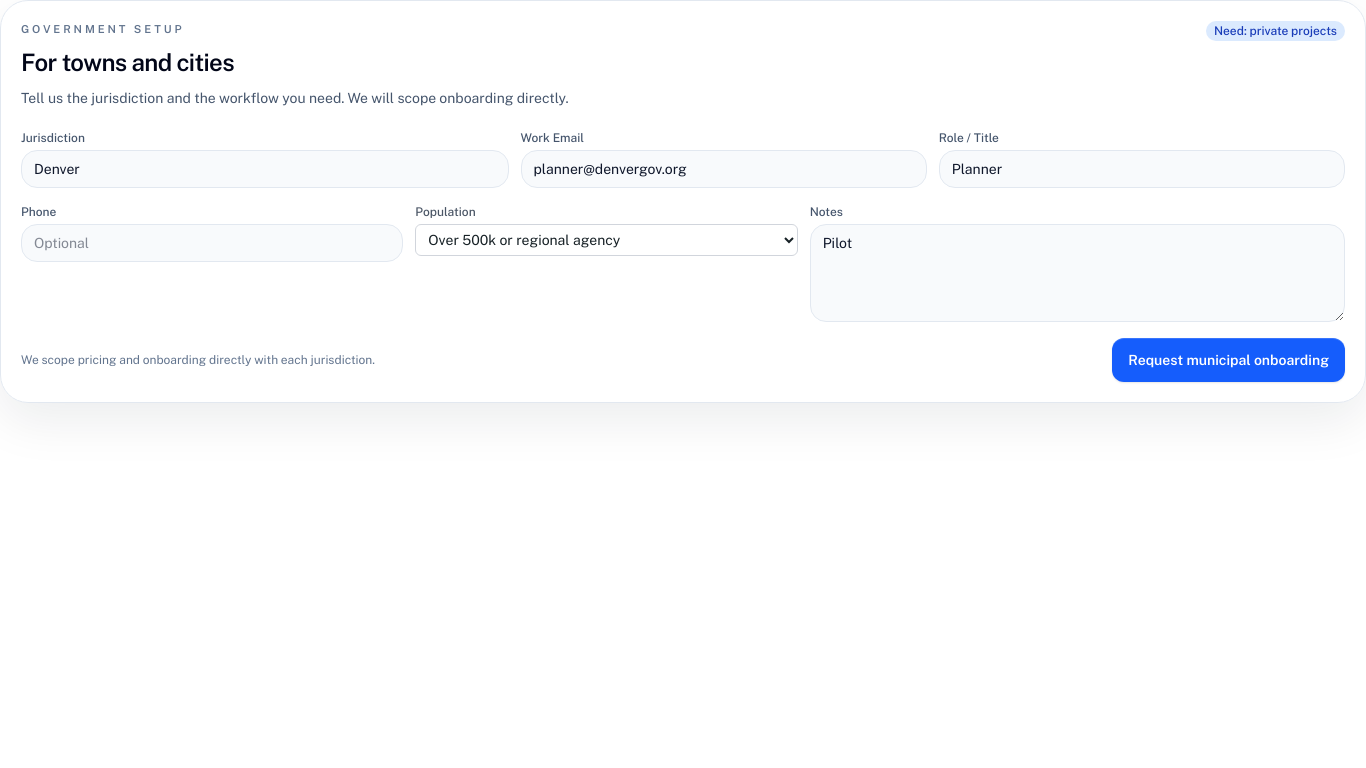
Test: government onboarding request › keeps editable prefilled fields and submits scoped contact information with the requested feature
Check: the field labelled "Work Email" holds "planner@denvergov.org", box [520, 150, 927, 188]
Replace the text in the field labelled "Jurisdiction" with "City and County of Denver" at (265, 168), box [21, 150, 508, 188]
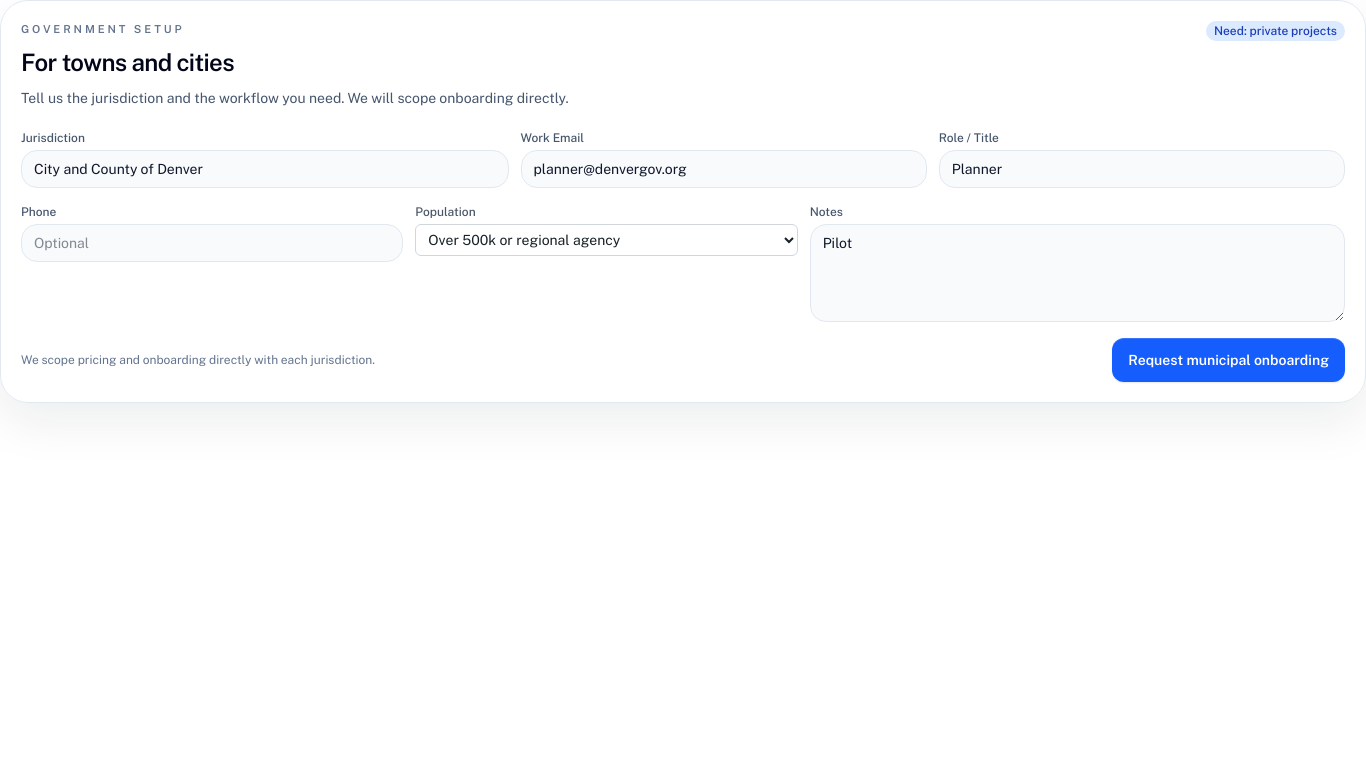
Replace the text in the field labelled "Role / Title" with "Transportation planner" at (1142, 168), box [939, 150, 1345, 188]
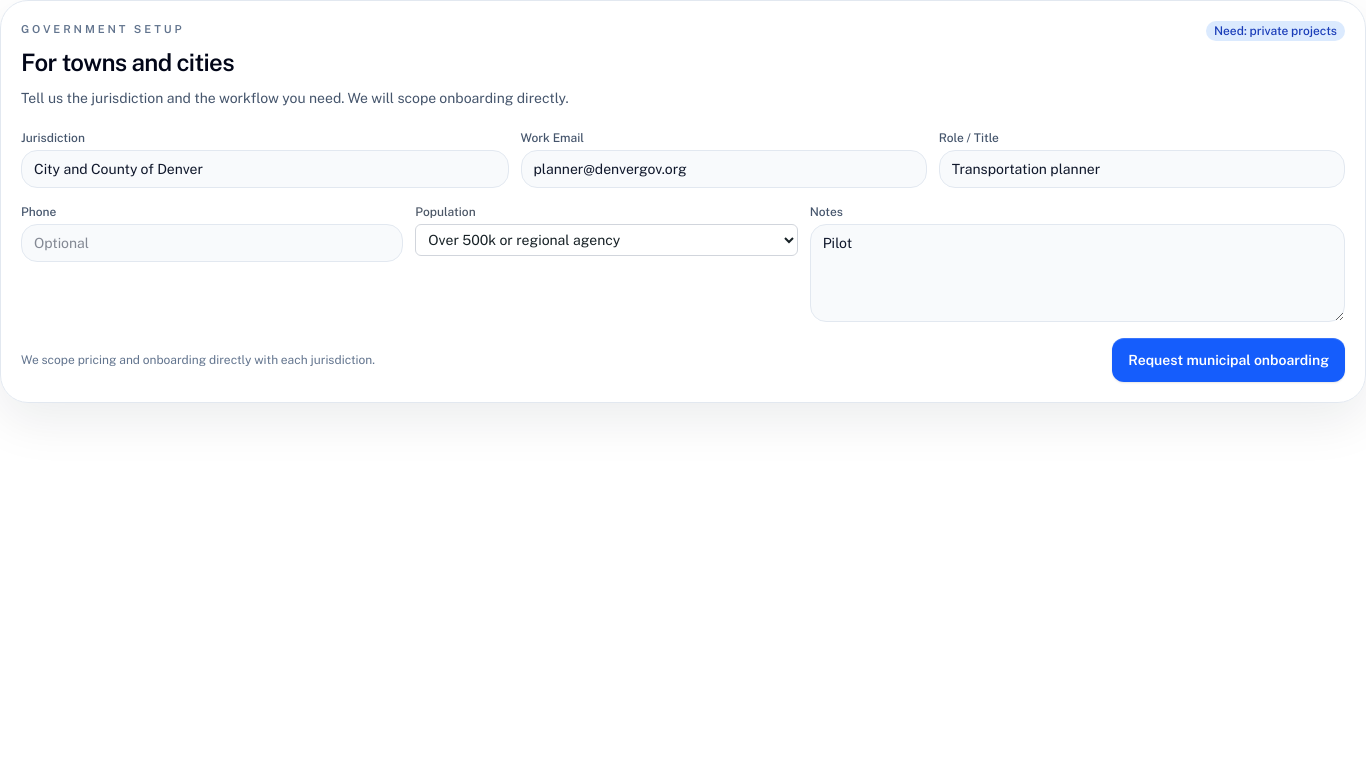
Type "  303-555-0100  " into the field labelled "Phone".
click(212, 242); type("  303-555-0100  ")  # box [21, 224, 403, 262]
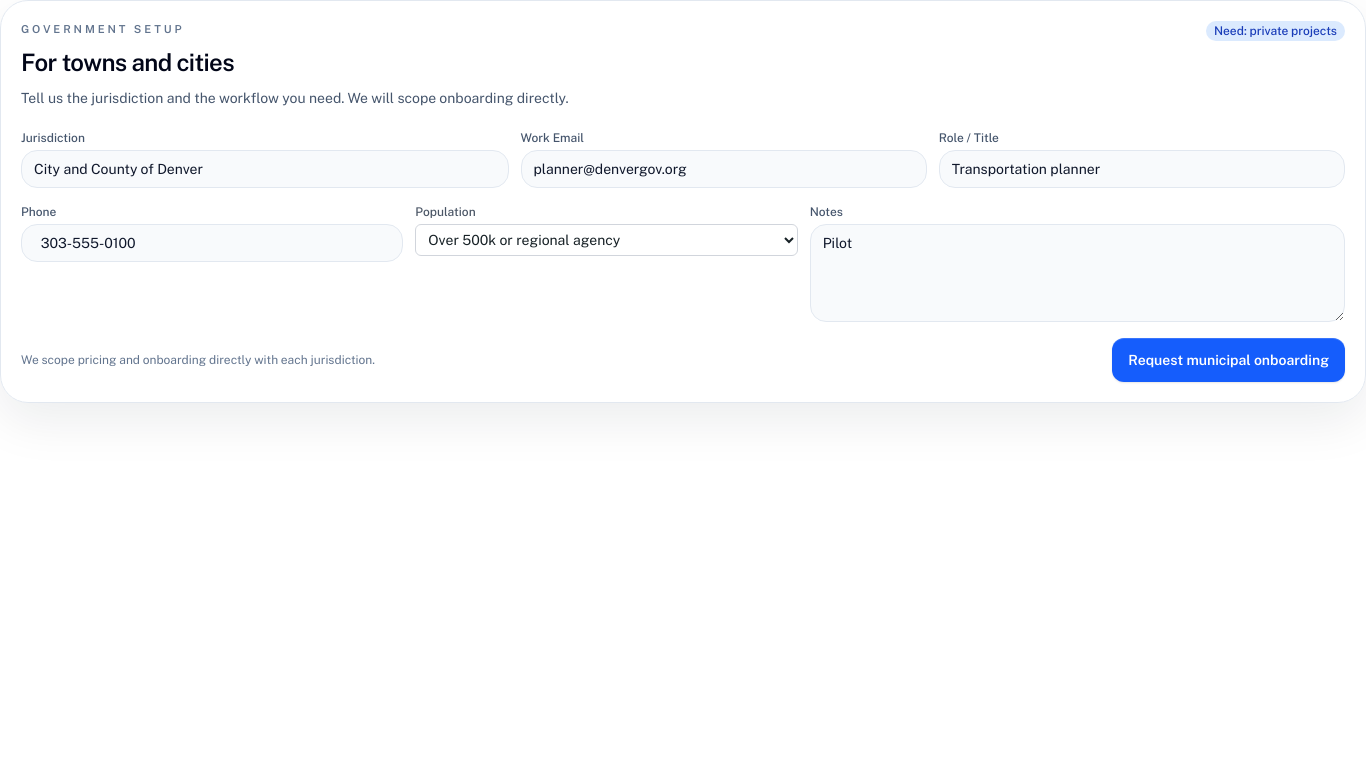
Select "50k to 500k residents" in the dropdown labelled "Population" at (606, 240), box [415, 224, 798, 256]
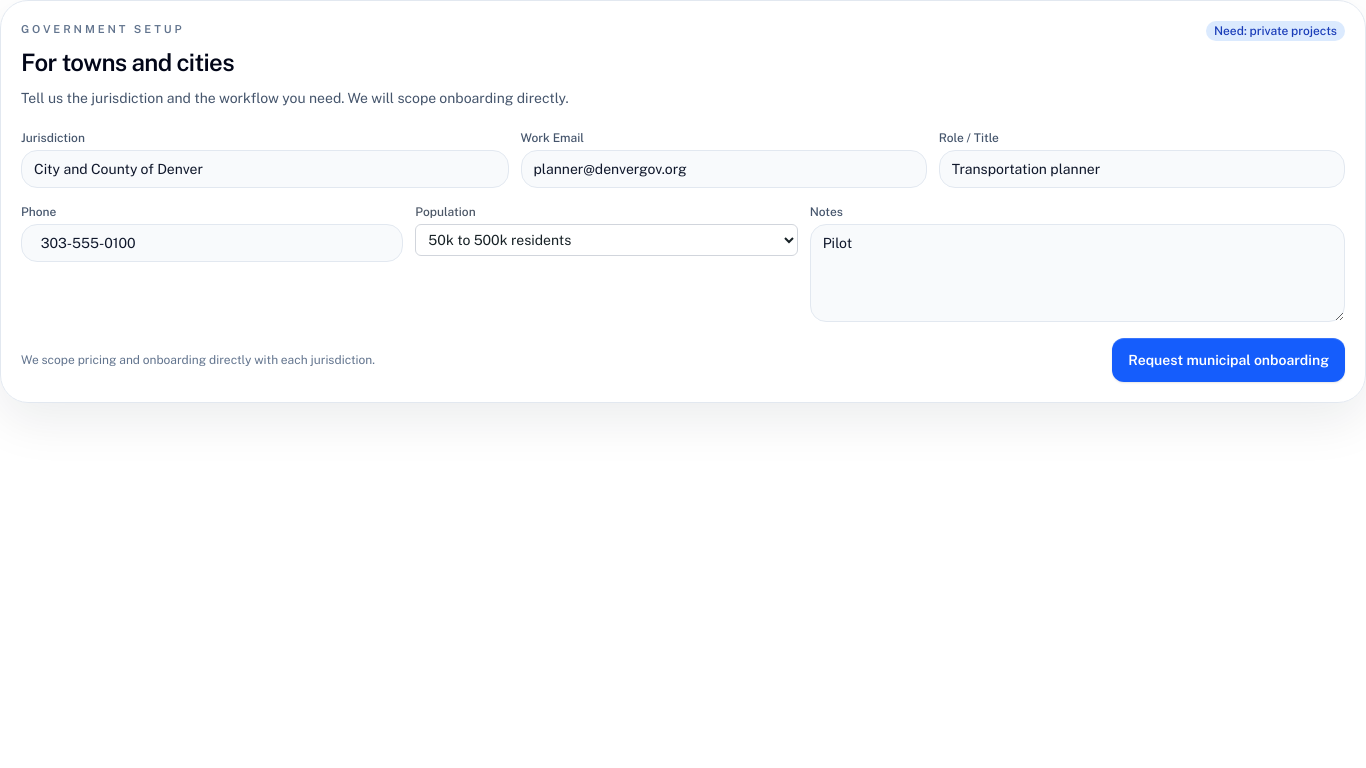
Replace the text in the text box labelled "Notes" with "  Interested in a safety pilot  " at (1077, 272), box [810, 224, 1345, 322]
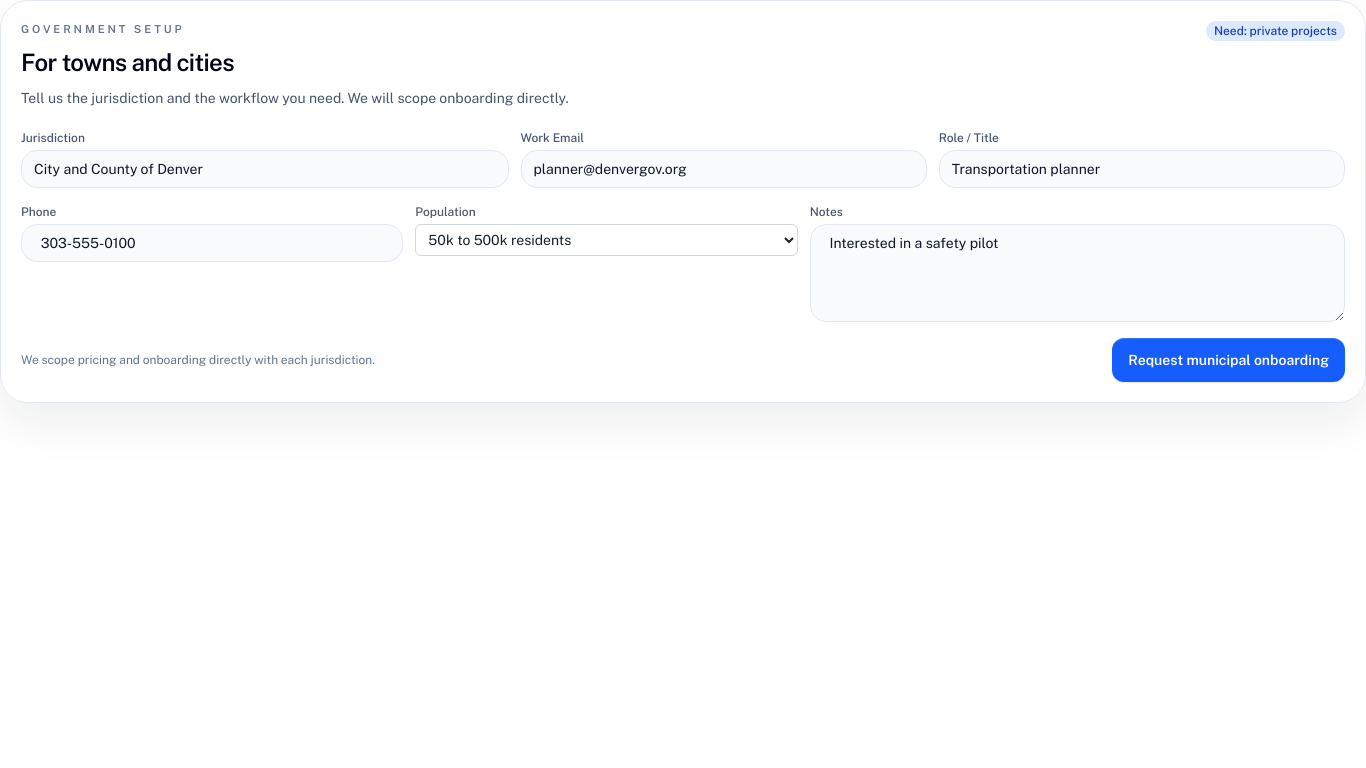
Click the button "Request municipal onboarding".
click(1229, 360)  # box [1112, 338, 1345, 382]
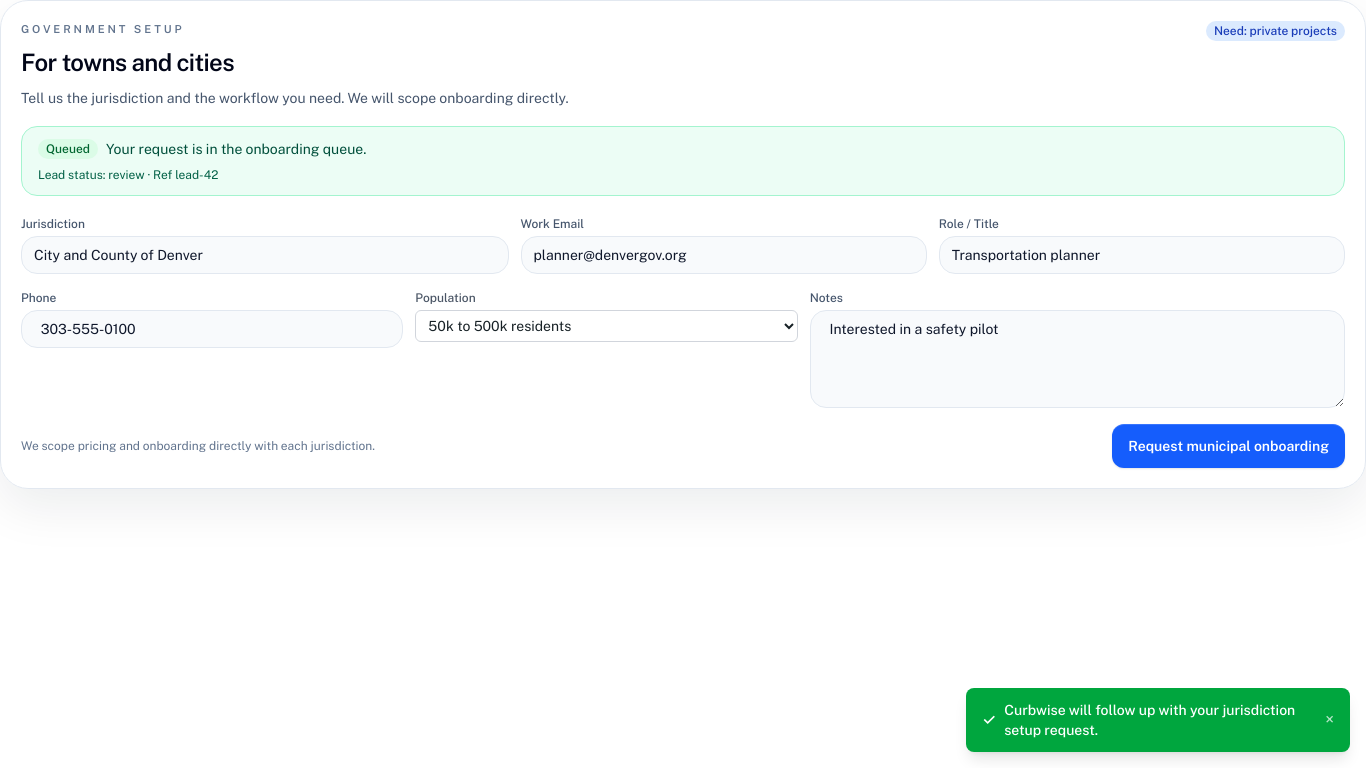
Check: the text "Lead status: review · Ref lead-42" is shown, box [38, 168, 218, 182]
Check: the message shows "Curbwise will follow up", box [1004, 702, 1295, 738]
